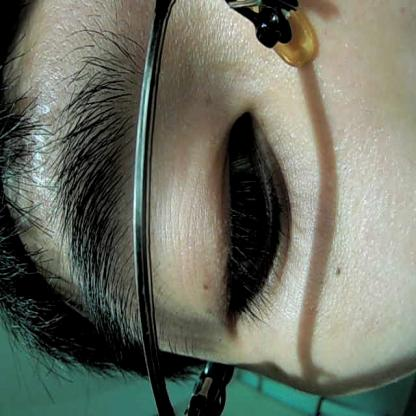Down: (194, 100, 300, 341)
